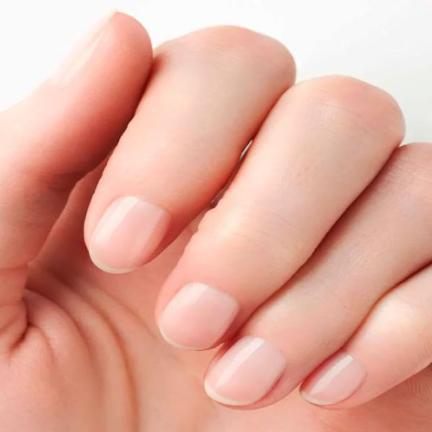Nail: (89, 196, 172, 274), (204, 336, 288, 406), (157, 282, 240, 350), (50, 9, 116, 87), (299, 350, 365, 405)
